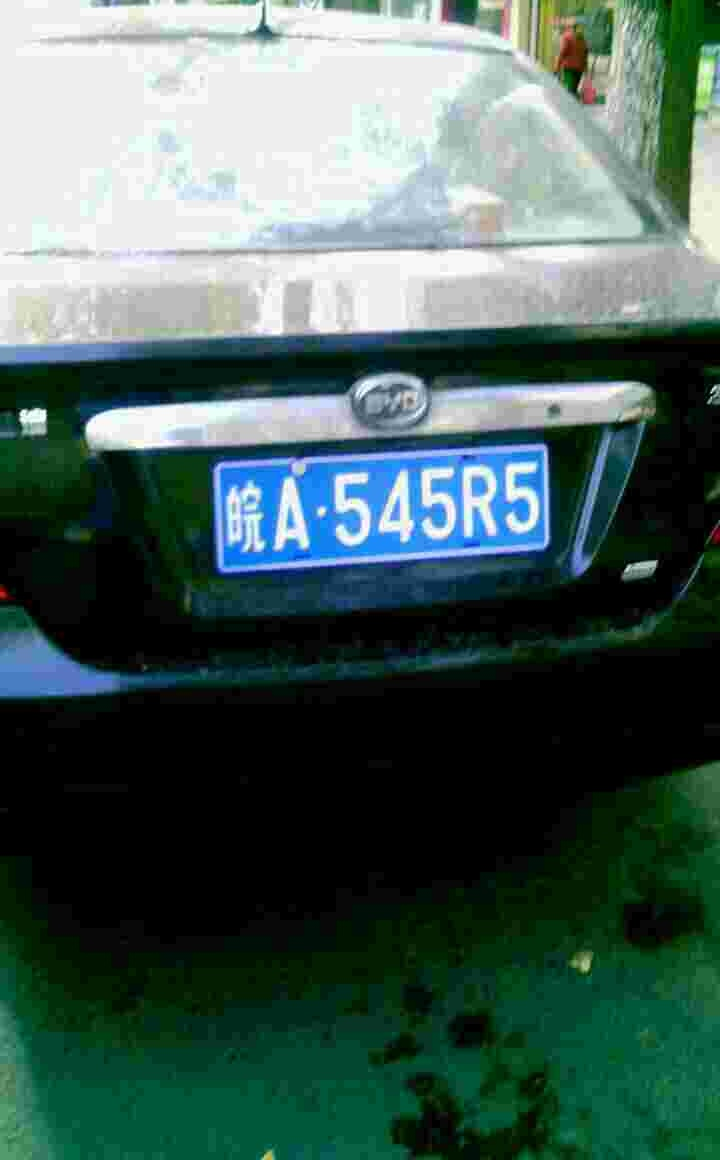car_blue: (210, 448, 560, 563)
